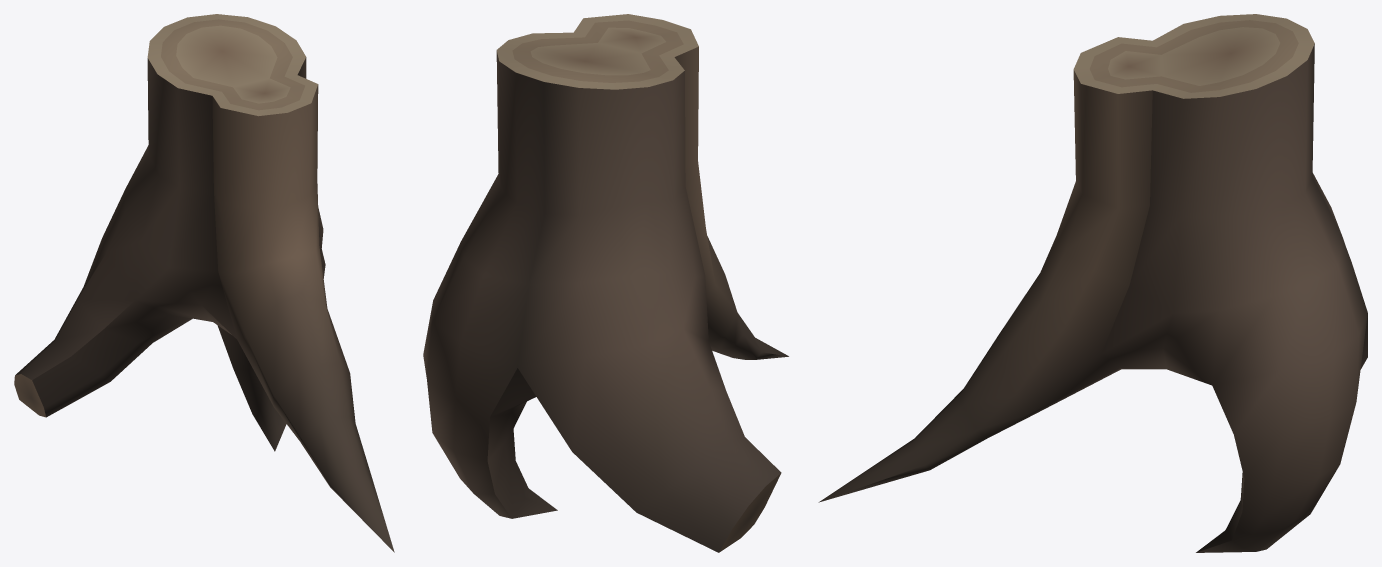
The model's file is trees-dead-trees-wood-tree-stump_v1.glb.
3 renders of one model, left to right at view 1: azimuth 30°, elevation 25°; view 2: azimuth 150°, elevation 25°; view 3: azimuth 270°, elevation 25°, orthographic. The views are drawn at different scales.
Parts seen in each view (by area): view 1: Tree Stump_v1; view 2: Tree Stump_v1; view 3: Tree Stump_v1.
Boxes of the visible parts, x1,y1,x2,y2 form: Tree Stump_v1: (14, 14, 394, 552); Tree Stump_v1: (423, 14, 788, 552); Tree Stump_v1: (818, 14, 1367, 552).
Size of the model in its own units: 0.5876 by 0.7831 by 0.8.
